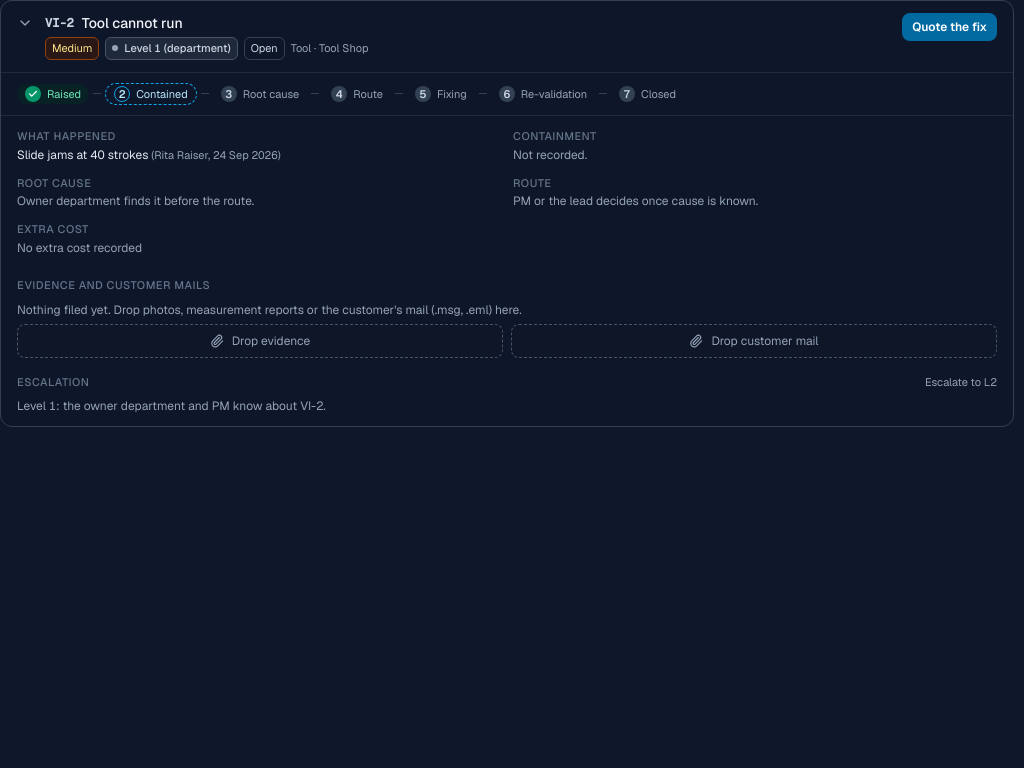
Test: F2 quote the fix › Sales sees "Quote the fix" as the primary act, confirms, and the fix-quoted call is made
Later steps or results of the test are not shown.
Click the button with test id "issue-primary-11" at (950, 27), box [902,13,997,41]
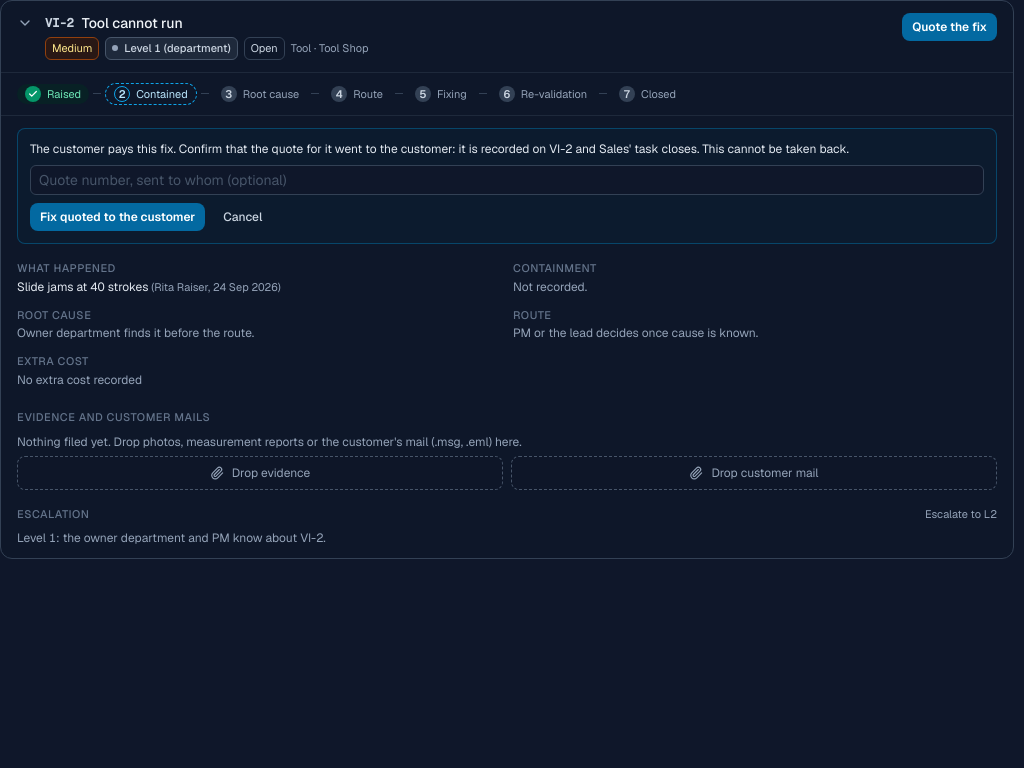
Check: the dialog named "Quote the fix of VI-2" is shown, box [17,128,997,244]
